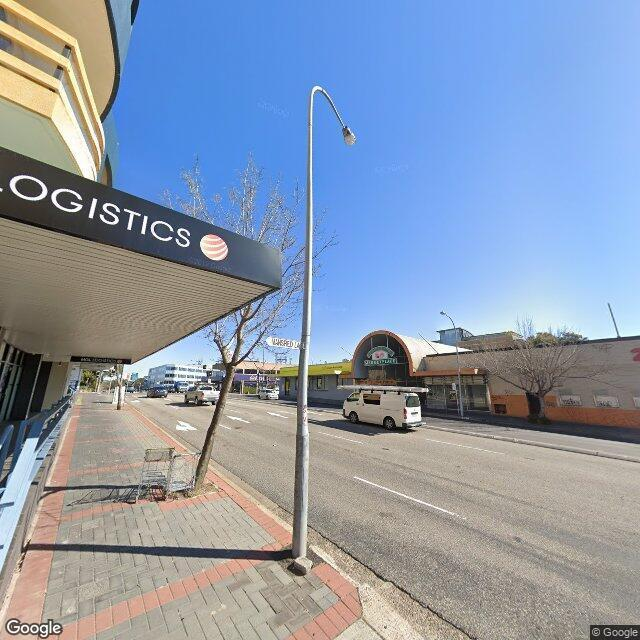steel-pole: (292, 87, 314, 558), (456, 328, 464, 417)
streetlight: (315, 85, 357, 145), (440, 311, 456, 328)
